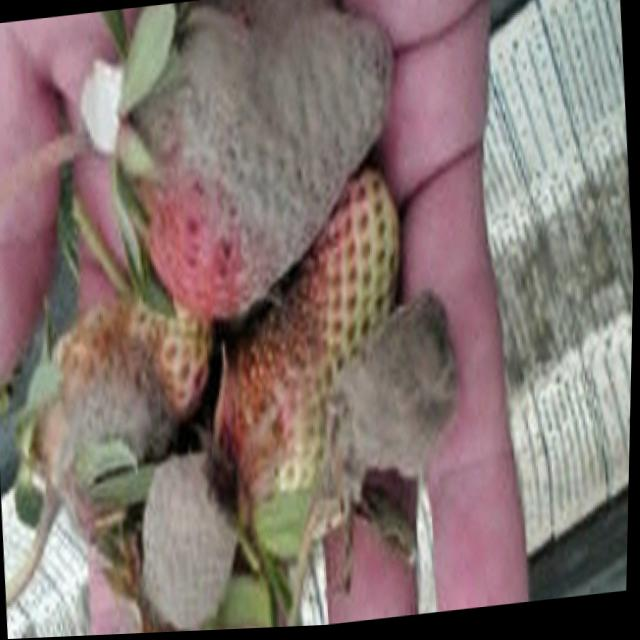Gray Mold: (124, 0, 396, 320), (217, 172, 381, 562), (37, 287, 180, 542), (334, 295, 461, 489), (138, 445, 244, 634)
